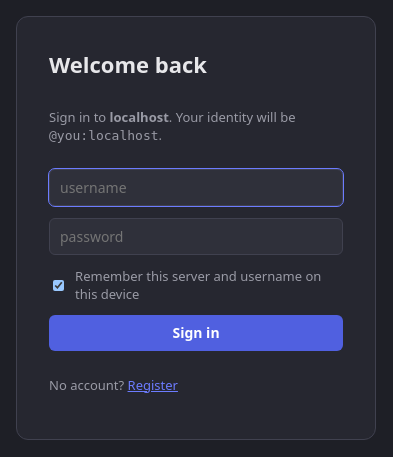
Test: AuthPage - 2FA challenge step › 'Back to sign in' returns to the username/password form
Step 1. Type "alice" into the field with placeholder "username" → (196, 188), box left=49, top=169, right=343, bottom=206
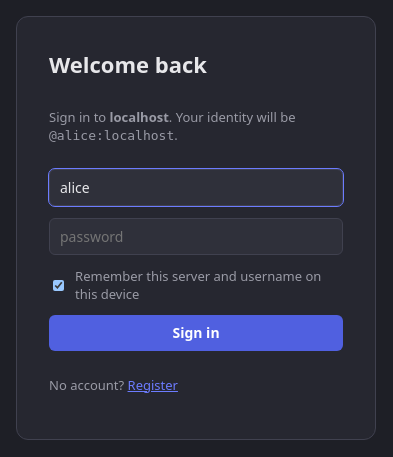
Step 2. Type "pw" into the password field with placeholder "password" → (196, 237), box left=49, top=218, right=343, bottom=255
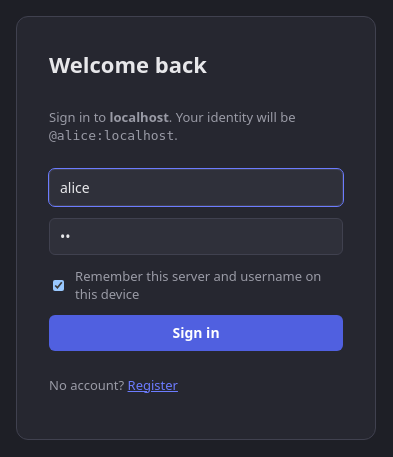
Step 3. Click the button "Sign in" → (196, 333), box left=49, top=315, right=343, bottom=351
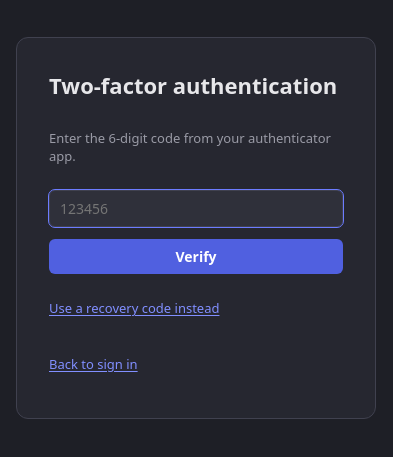
Expected: the heading "Two-factor authentication" is shown, left=49, top=70, right=343, bottom=100
Step 4. Click the button "Back to sign in" → (93, 364), box left=49, top=356, right=138, bottom=373
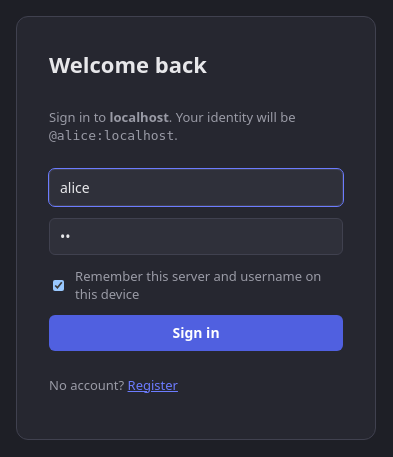
Expected: the field with placeholder "username" is shown, left=49, top=169, right=343, bottom=206
